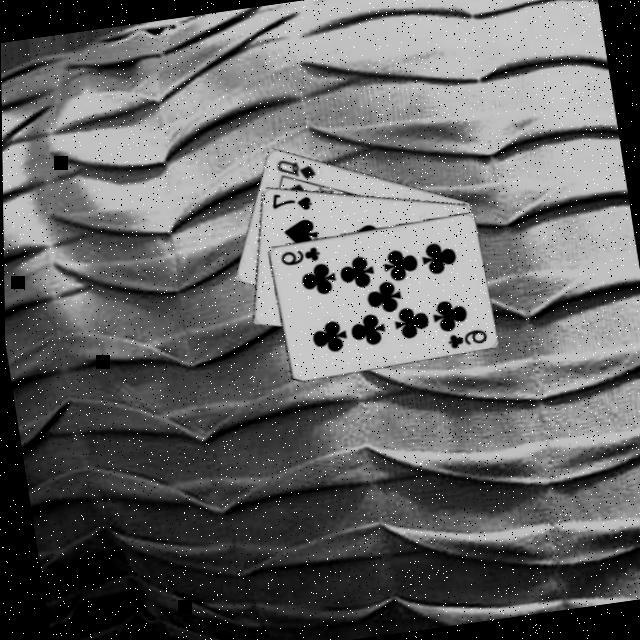7S: (266, 184, 313, 215)
9C: (440, 324, 488, 350), (274, 242, 320, 268)
QD: (270, 150, 318, 185)
